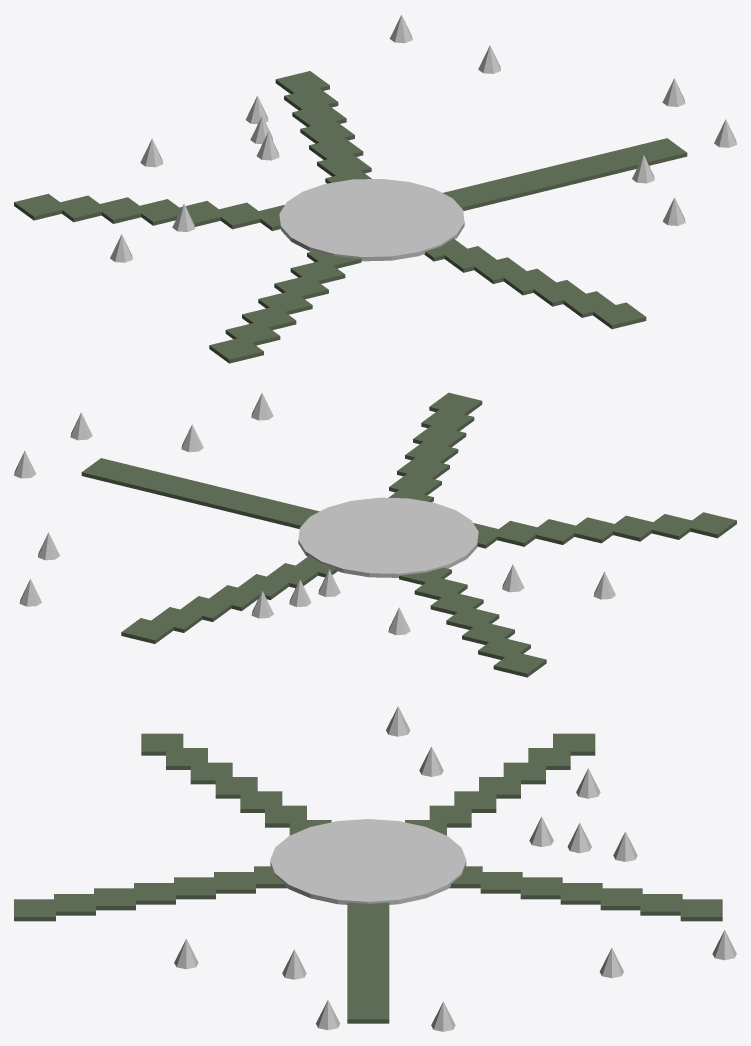
Rendered from layout_main.obj.
3 renders of one model, top to bottom at view 1: azimuth 30°, elevation 25°; view 2: azimuth 150°, elevation 25°; view 3: azimuth 270°, elevation 25°, orthographic. The views are drawn at different scales.
Visible parts, largest first — view 1: paths, plaza, scatter; view 2: paths, plaza, scatter; view 3: paths, plaza, scatter.
Part boxes in pixels (box(x1,y1,x2,y2)): paths: box(14, 71, 687, 363); plaza: box(279, 179, 464, 261); scatter: box(110, 15, 736, 262); paths: box(81, 392, 736, 677); plaza: box(298, 497, 478, 577); scatter: box(14, 393, 615, 635); paths: box(14, 733, 722, 1023); plaza: box(270, 819, 466, 904); scatter: box(174, 706, 736, 1031).
Size of the model in its own units: 51.97 by 3.08 by 51.59.
